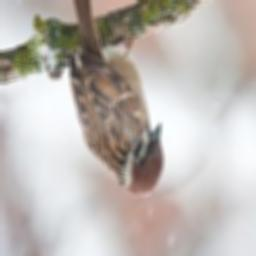Sparrow: (65, 0, 164, 199)
